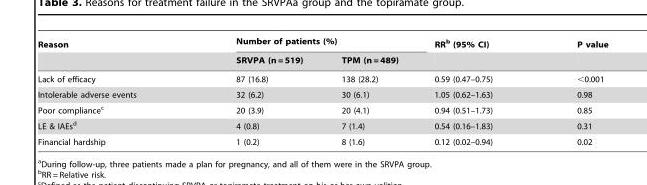table: (37, 36, 607, 146)
table column: (37, 36, 185, 146), (185, 36, 321, 146), (415, 36, 534, 146), (321, 36, 415, 146), (534, 36, 607, 146)
table column header: (37, 36, 607, 69)
table row: (37, 52, 607, 69), (37, 69, 607, 86), (37, 36, 607, 52), (37, 101, 607, 117), (37, 117, 607, 133), (37, 86, 607, 101), (37, 133, 607, 146)
table spanning cell: (37, 36, 185, 69), (415, 36, 534, 69), (185, 36, 415, 52), (534, 36, 607, 69)
